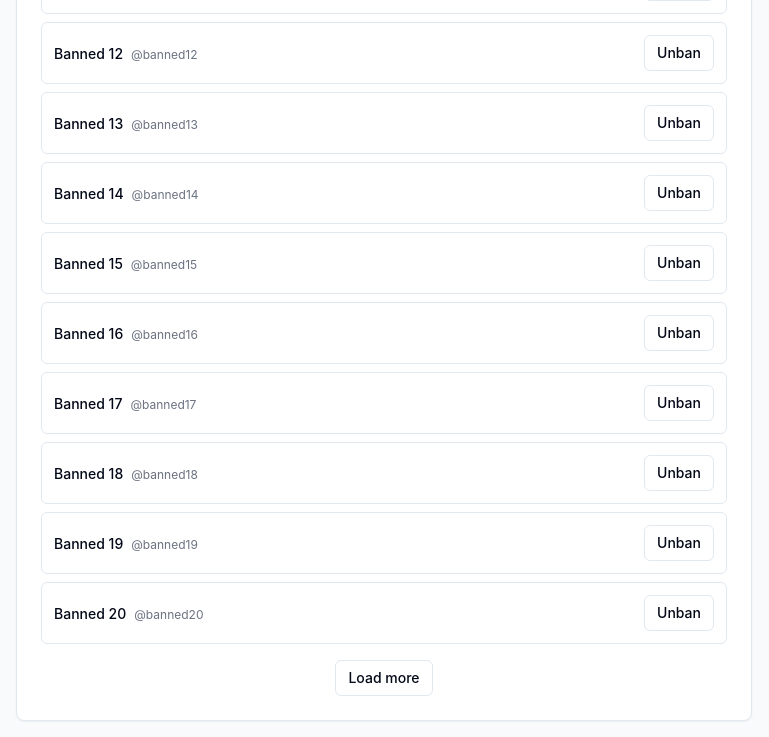
Test: banned members section — pagination › Load more appends the next page to the first instead of replacing it, and is gone on the last page
This screenshot has width=769, height=737.
(page scrolled)
Step 1. Click the button "Load more" → {"x": 384, "y": 678}, box left=335, top=660, right=432, bottom=696
(page scrolled)
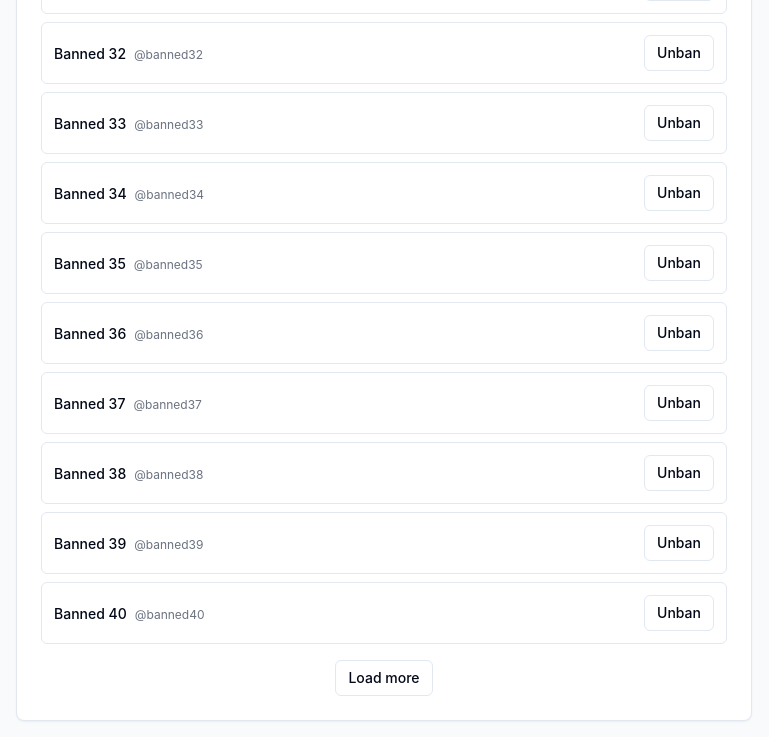
Step 2. Click the button "Load more" → {"x": 384, "y": 678}, box left=335, top=660, right=432, bottom=696
(page scrolled)
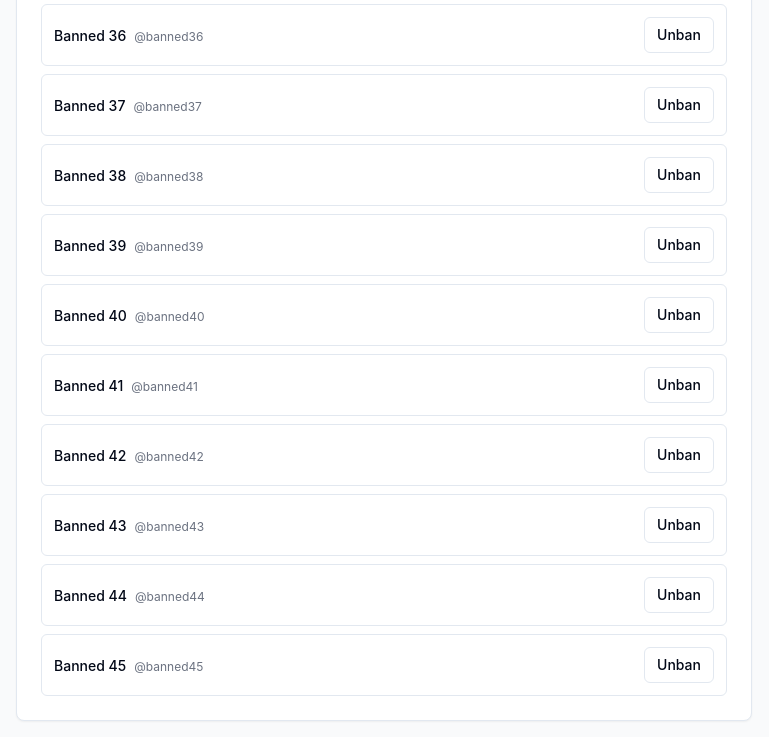
Expected: the text "Banned 45" is shown, left=54, top=657, right=126, bottom=674
Expected: the button "Load more" is gone
